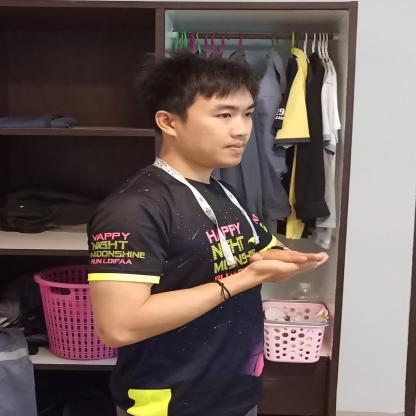Love: (234, 226, 336, 294)
